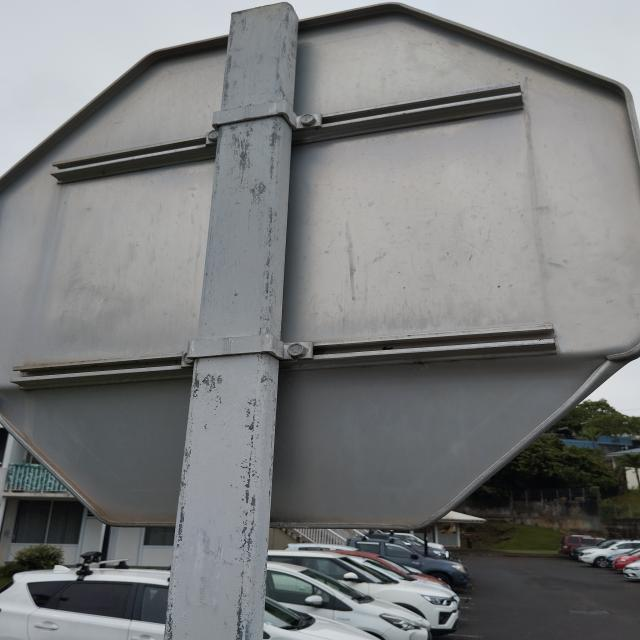Panneau: (10, 2, 640, 533)
